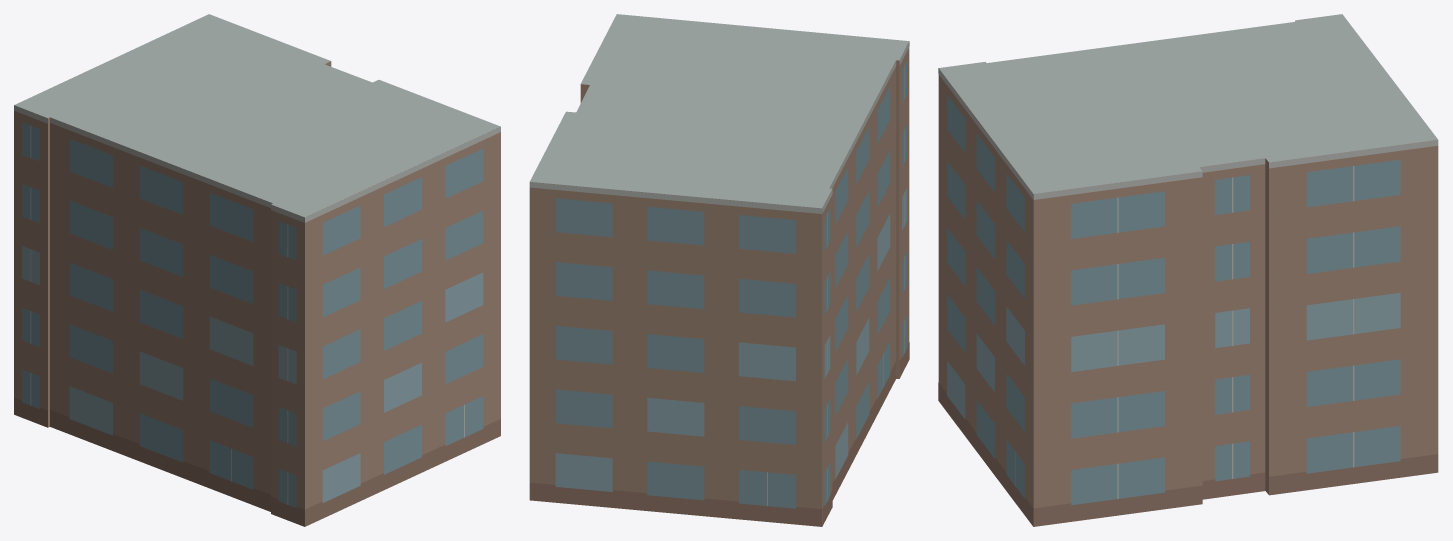
File: survey-upis-32616106.glb
3 views of the same model, side by side, from view 1: azimuth 30°, elevation 25°; view 2: azimuth 150°, elevation 25°; view 3: azimuth 270°, elevation 25° (orthographic). The views are drawn at different scales.
Visible parts, largest first — view 1: survey-upis-32616106.tmp; view 2: survey-upis-32616106.tmp; view 3: survey-upis-32616106.tmp.
Boxes of the visible parts, x1,y1,x2,y2 form: survey-upis-32616106.tmp: (14,14,500,526); survey-upis-32616106.tmp: (529,14,909,526); survey-upis-32616106.tmp: (938,14,1438,526).
Bounding box in the file's own units: 15.91 × 13.7 × 18.66.
